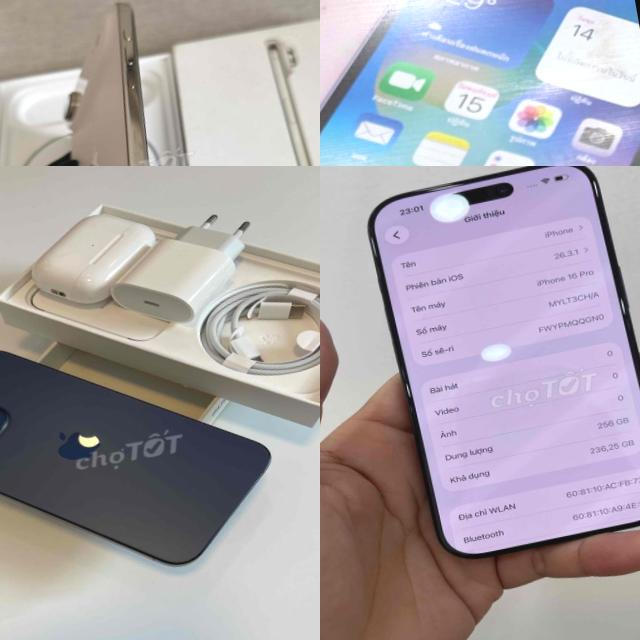gen_15: (0, 295, 305, 618)
gen_16: (368, 166, 640, 557)
gen_17: (20, 0, 202, 166)
